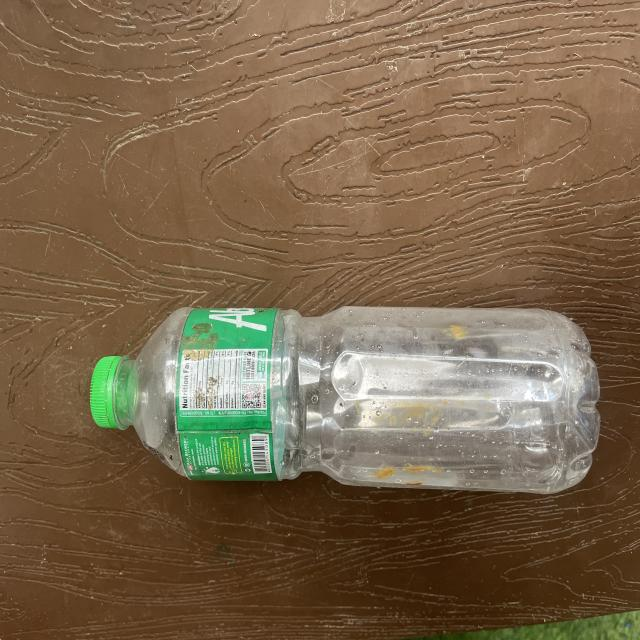REJECT: (90, 284, 576, 499)
